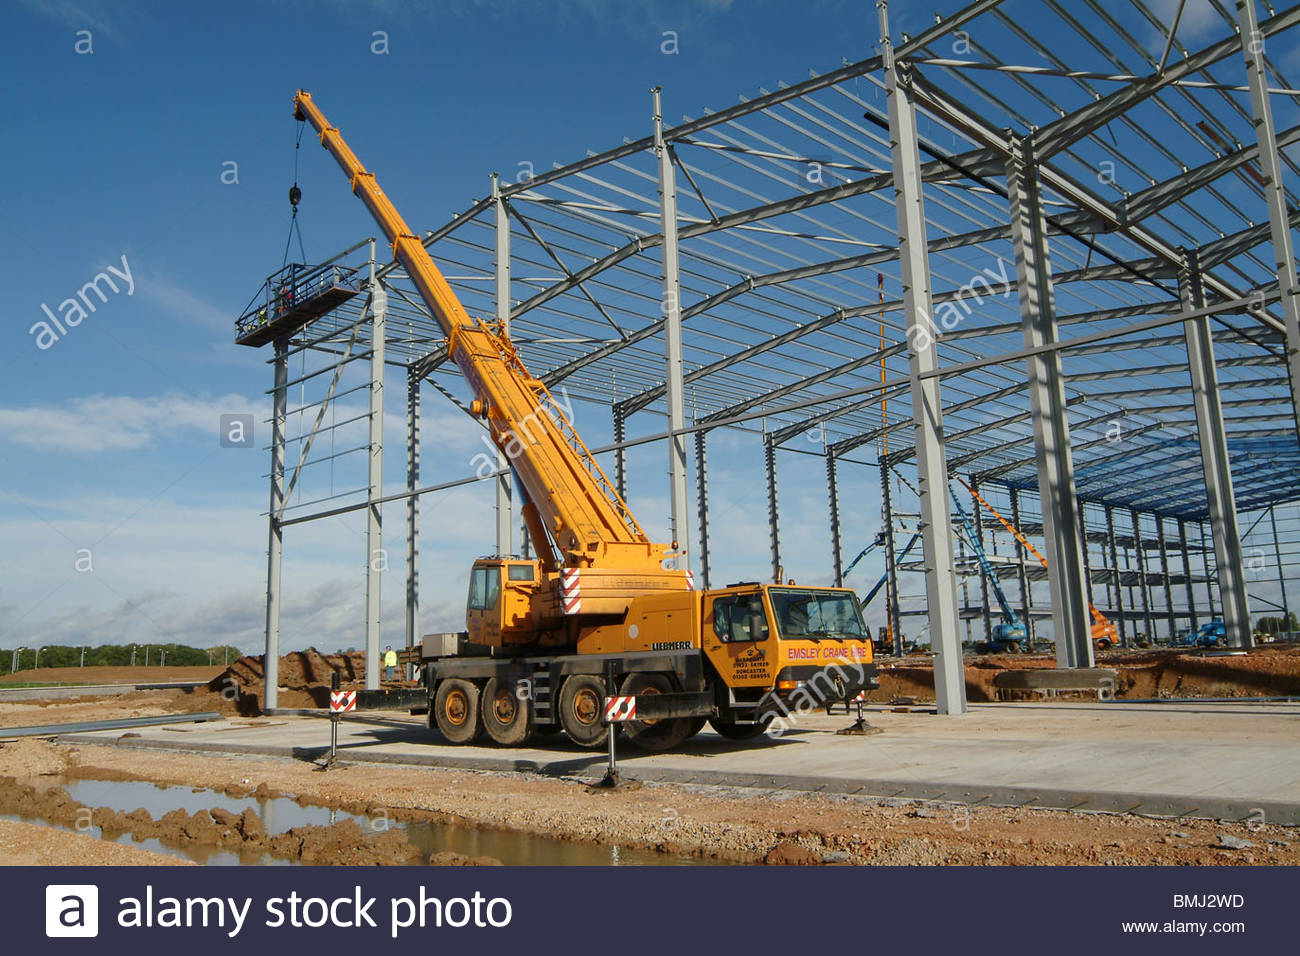crane: (281, 85, 882, 776)
